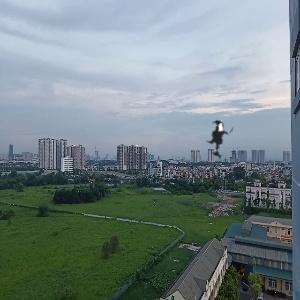drone: (192, 110, 253, 171)
